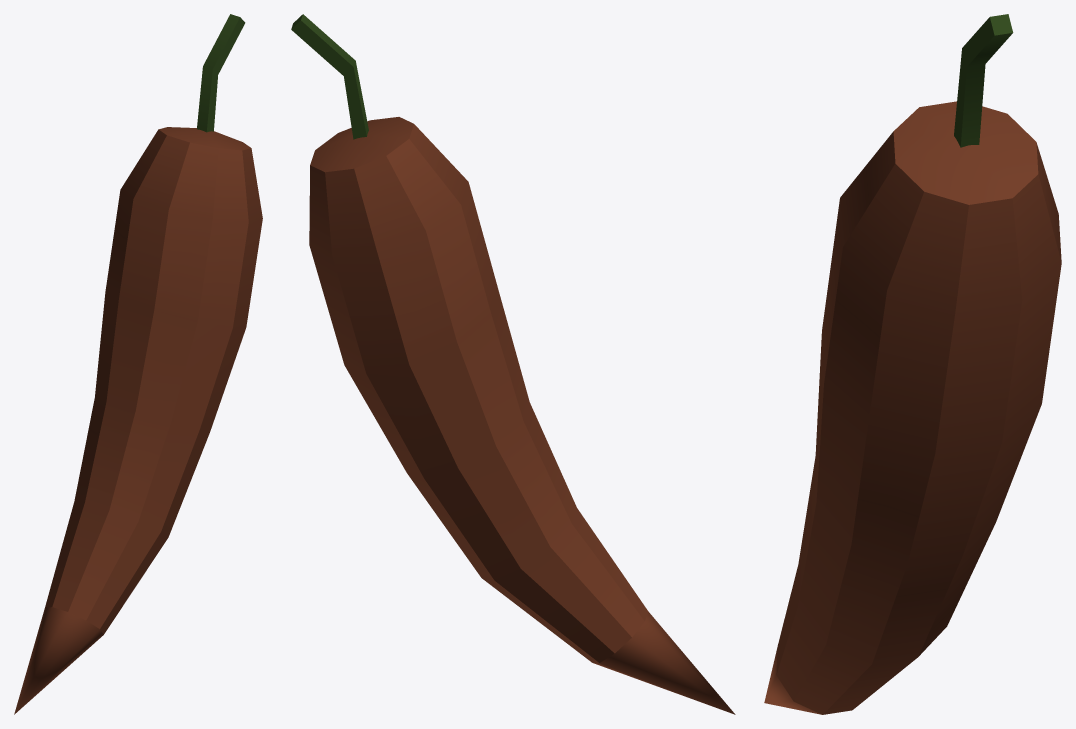
File: RedPepper.fbx
3 renders of one model, left to right at view 1: azimuth 30°, elevation 25°; view 2: azimuth 150°, elevation 25°; view 3: azimuth 270°, elevation 25°, orthographic. The views are drawn at different scales.
Parts seen in each view (by area): view 1: RedPepper8; view 2: RedPepper8; view 3: RedPepper8.
Part boxes in pixels (bbox=[...]): RedPepper8: bbox=[14, 14, 262, 714]; RedPepper8: bbox=[291, 14, 735, 714]; RedPepper8: bbox=[764, 14, 1061, 714].
Bounding box in the file's own units: 2.67 × 4.83 × 1.42.
